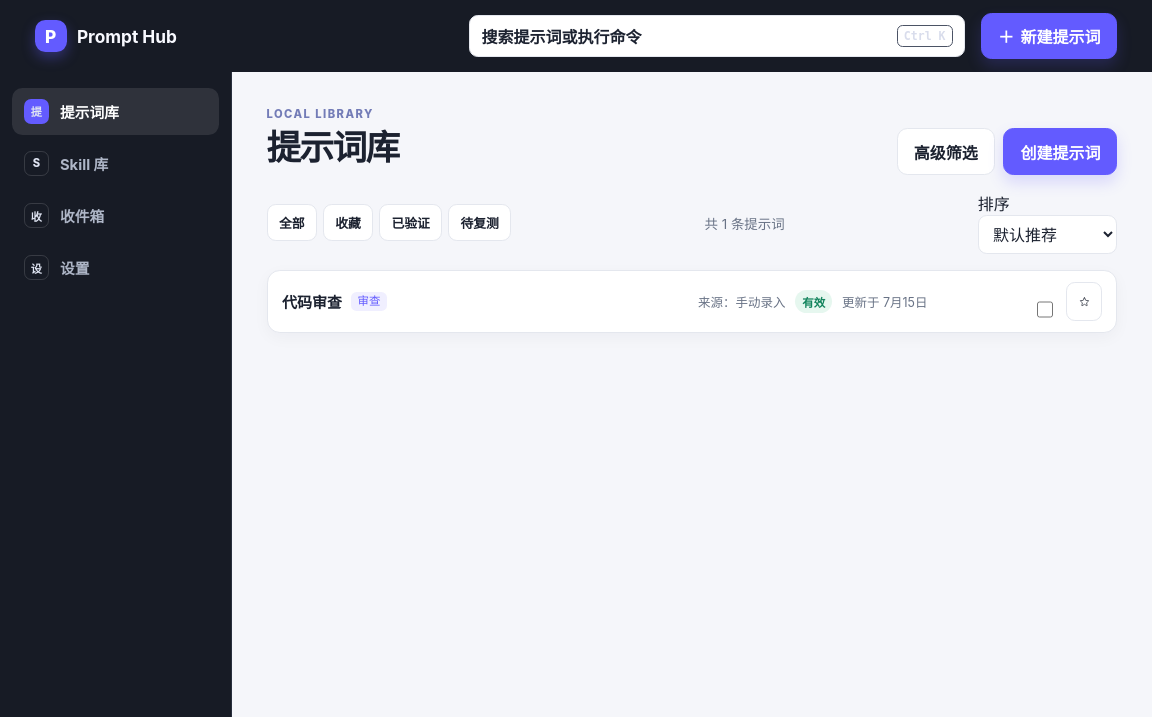
Test: App › opens metadata editing for a selected library prompt
The image size is (1152, 717).
Click the button with aria-label "打开提示词：代码审查": (312, 302) [282,291,342,312]
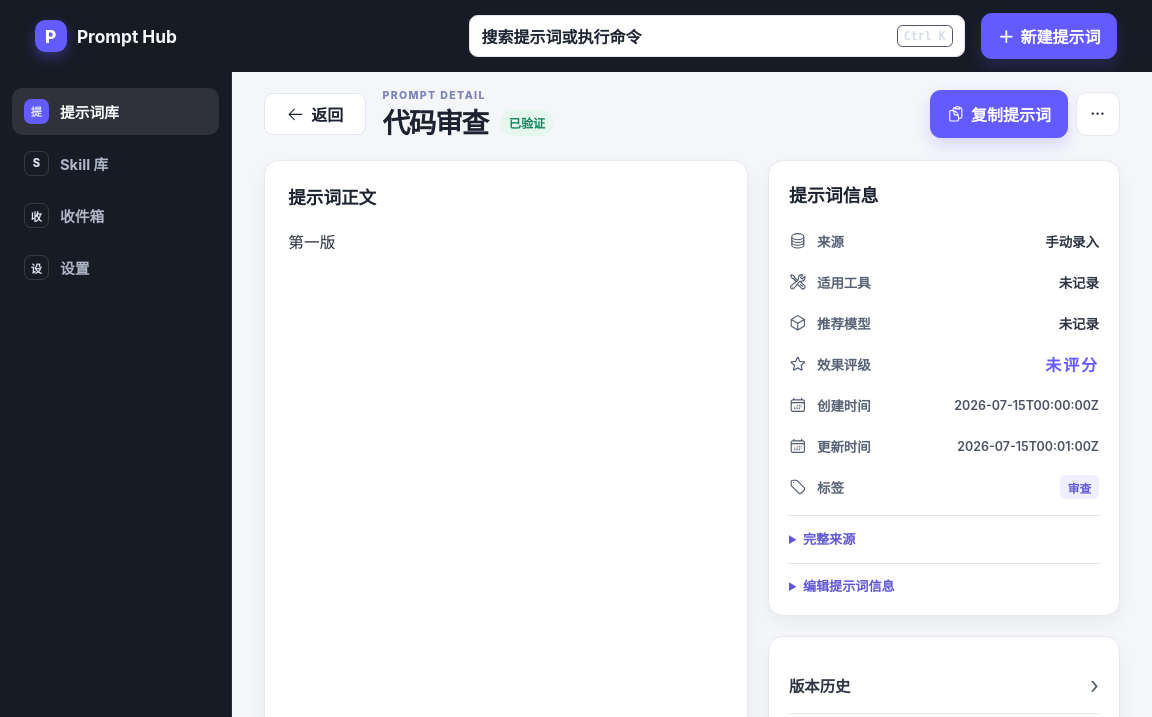
expect the element labelled "提示词正文" shows "第一版": met, box [288,231,336,253]
expect the heading "编辑提示词信息" is shown: met, box [803,578,895,594]
expect the heading "版本历史" is shown: met, box [789,674,850,696]
Click the heading "完整来源": (829, 539) [803,531,855,547]
(page scrolled)
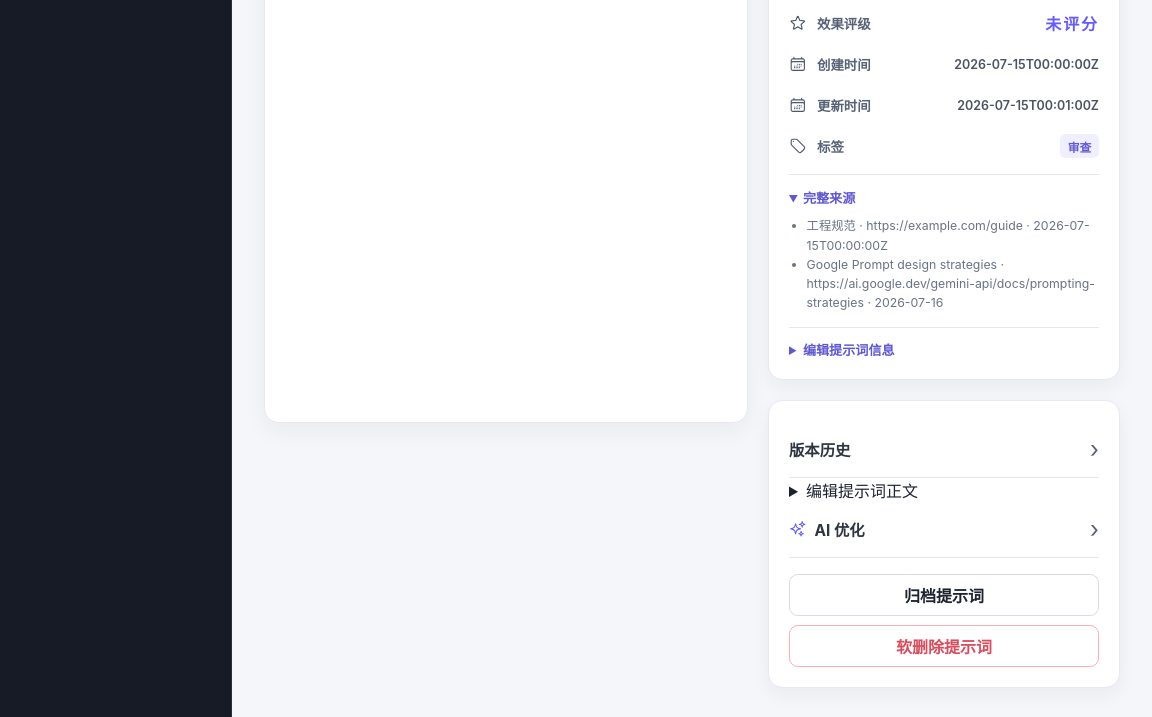
expect the button "软删除提示词" is shown: met, box [789,624,1099,666]
expect the list item "工程规范 · https://example.com/guide · 2026-07-15T00:00:00Z" is shown: met, box [807,216,1099,255]
expect the text "2026-07-15T00:00:00Z" in the row of "工程规范" is shown: met, box [807,218,1090,253]
